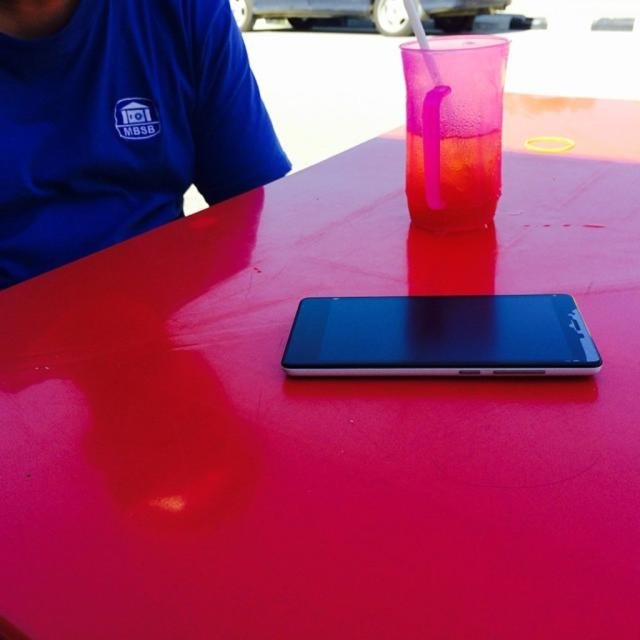Mobile-phone: (259, 277, 613, 382)
